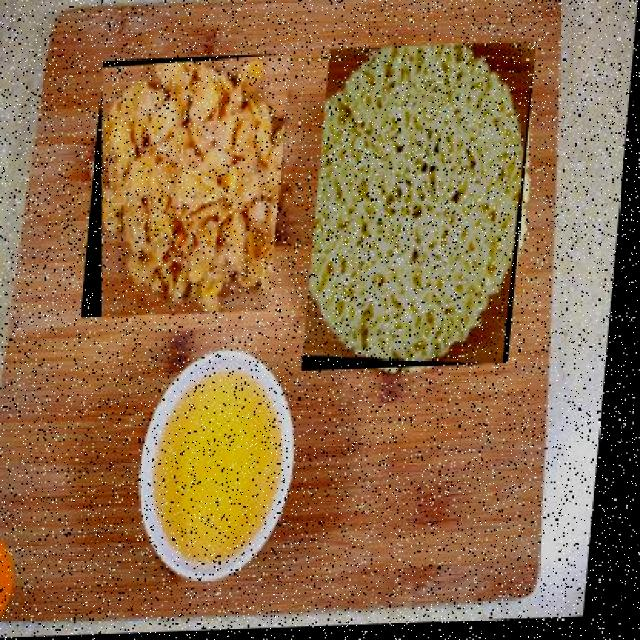Cornflakes: (85, 55, 292, 320)
Noodles: (307, 46, 538, 374)
